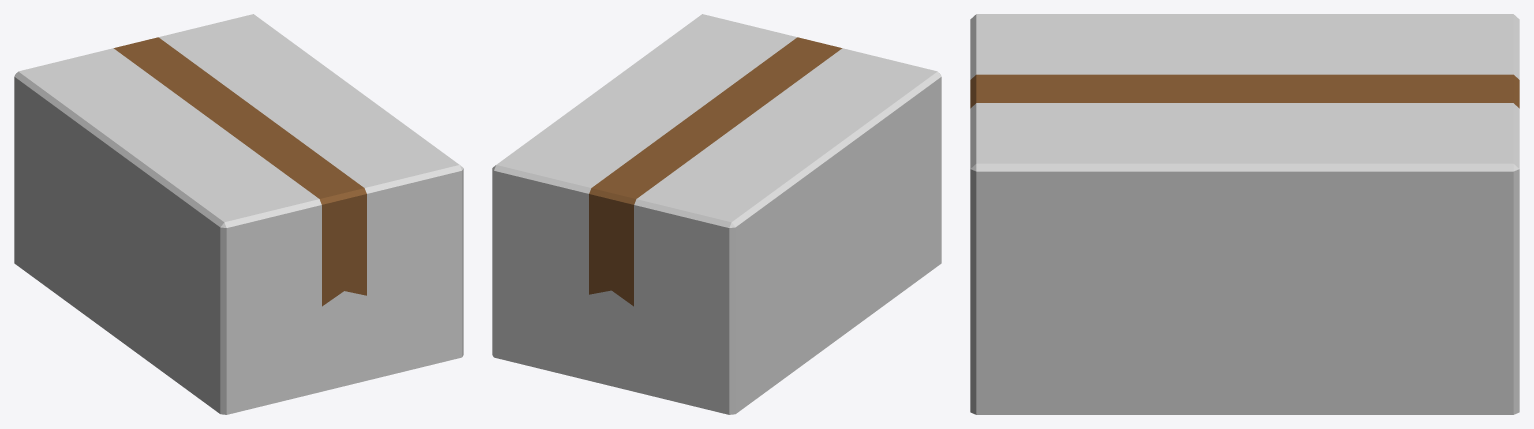
3 renders of one model, left to right at view 1: azimuth 30°, elevation 25°; view 2: azimuth 150°, elevation 25°; view 3: azimuth 270°, elevation 25°, orthographic. The views are drawn at different scales.
Visible parts, largest first — view 1: Box 2; view 2: Box 2; view 3: Box 2.
Boxes of the visible parts, <box> form: Box 2: <box>14,14,463,414</box>; Box 2: <box>492,14,941,414</box>; Box 2: <box>970,14,1519,414</box>.
Size of the model in its own units: 20.68 by 15.51 by 31.02.
